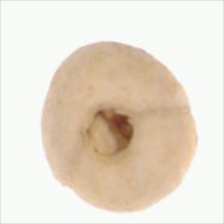L3: (80, 106, 139, 158)
L4: (41, 40, 198, 212)
